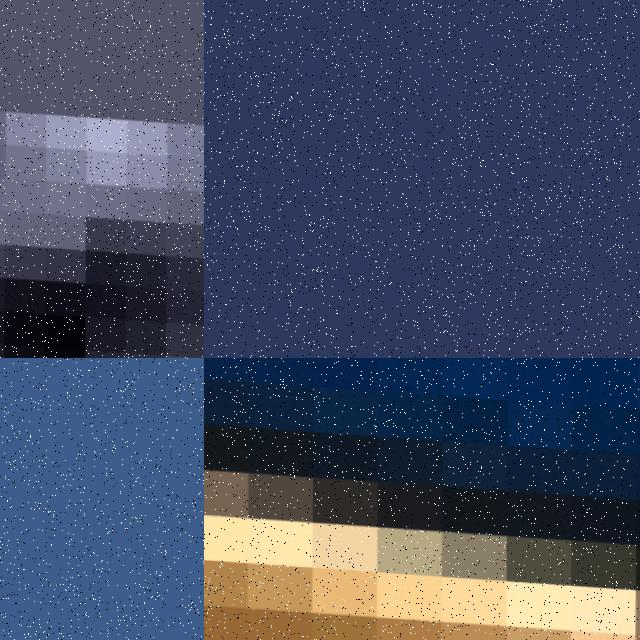0: (0, 0, 204, 358)
drone: (204, 358, 640, 640)
